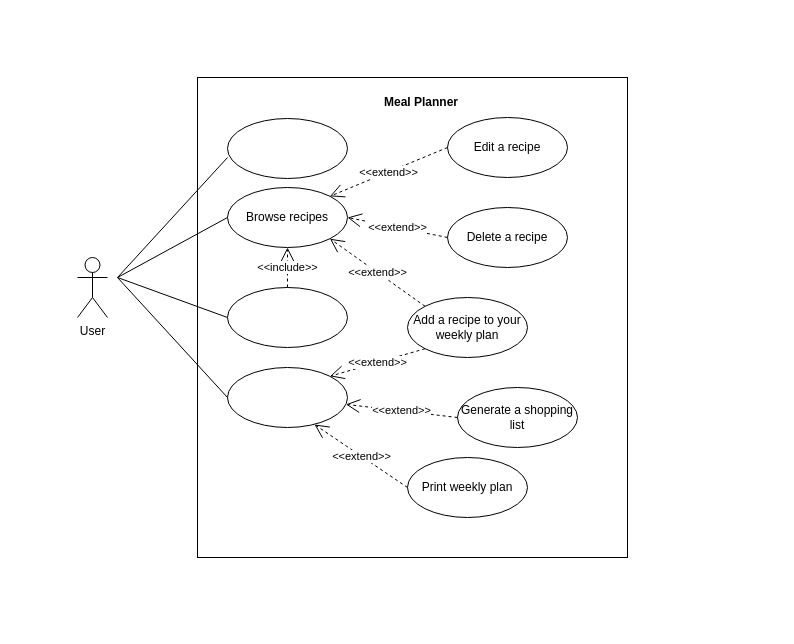
The diagram is 794 pixels wide and 644 high, and some of its shapes have lost their labels. The shapes that lost their labels are listed below. From the top down, each one's centre as x and y in pixels, then its label:
the point at 287,148: Add a recipe
the point at 287,317: Search a recipe
the point at 287,397: Browse the weekly plan
